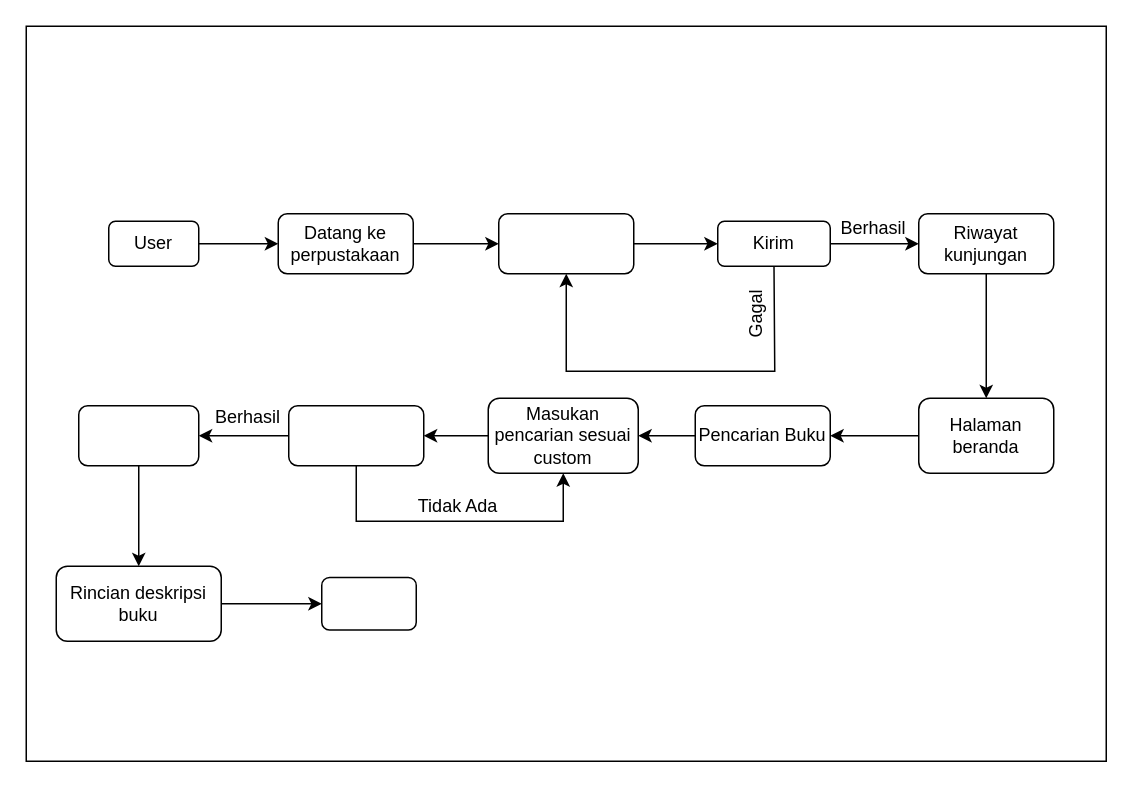
The diagram is 1133 pixels wide and 788 high, and some of its shapes have lost their labels. The box of each missing label's shape, as (x1, y1, x2, y2) in pixels:
Isi form kunjungan: (497, 212, 634, 274)
Pencarian muncul: (77, 404, 199, 466)
Proses mencari: (287, 404, 424, 466)
Selesai: (320, 576, 416, 630)
